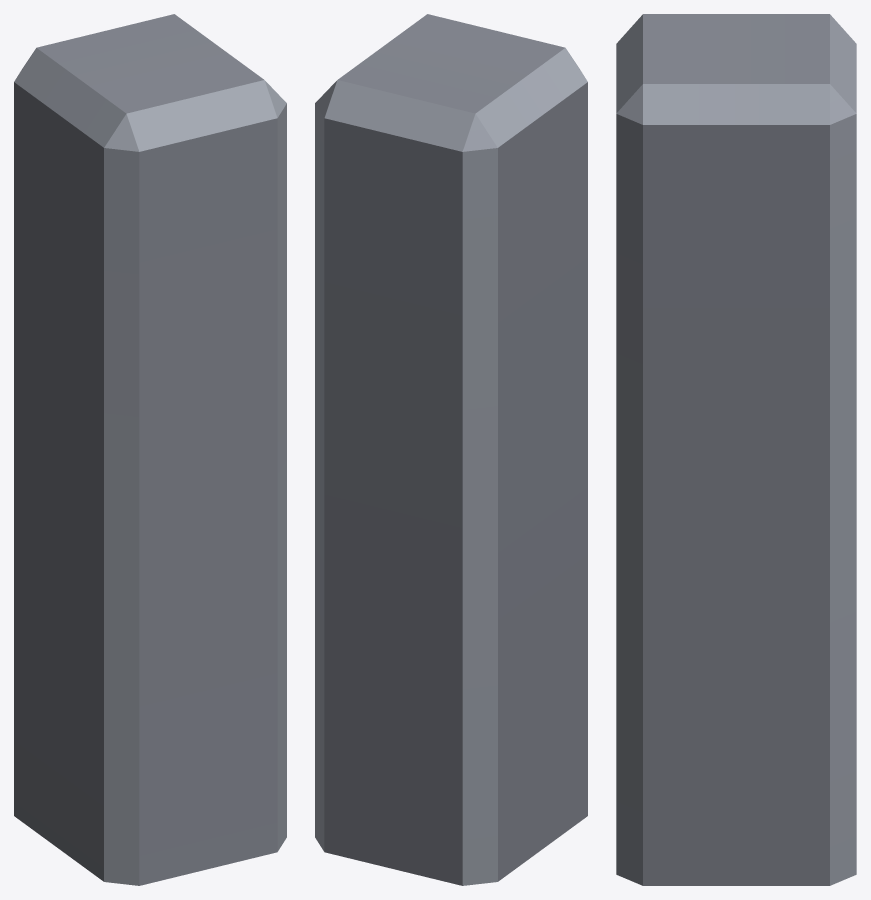
Rendered from cot1.fbx.
3 renders of one model, left to right at view 1: azimuth 30°, elevation 25°; view 2: azimuth 150°, elevation 25°; view 3: azimuth 270°, elevation 25°, orthographic. The views are drawn at different scales.
Visible parts, largest first — view 1: cot1; view 2: cot1; view 3: cot1.
Boxes of the visible parts, bbox=[...] form: cot1: bbox=[14, 14, 286, 885]; cot1: bbox=[315, 14, 587, 885]; cot1: bbox=[616, 14, 856, 885].
Bounding box in the file's own units: 58.73 × 234 × 64.51.
